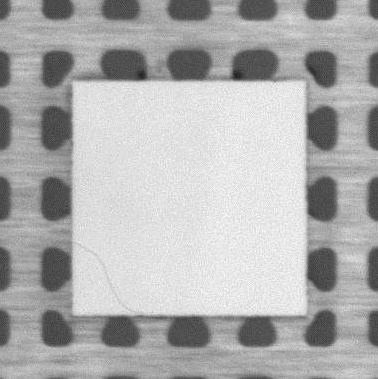DIE_CRACK: (72, 240, 144, 313)
